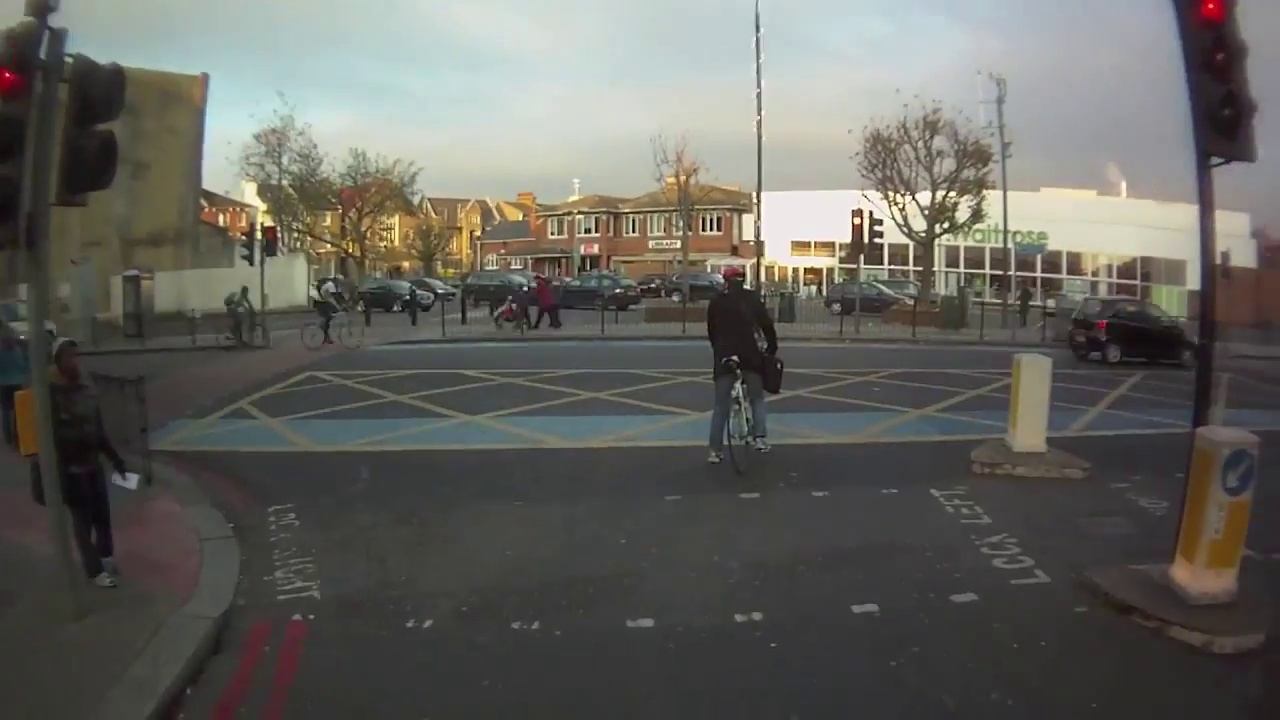cyclist_back: (703, 264, 785, 473)
cyclist_side: (299, 273, 368, 349), (210, 283, 272, 350)
